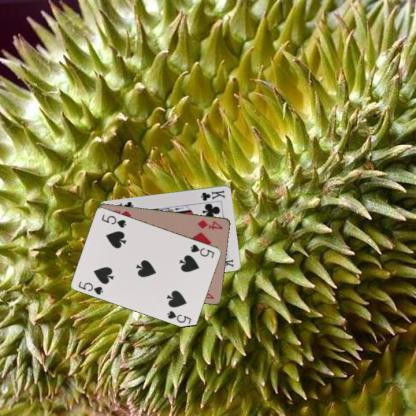4d: (195, 217, 224, 231)
5s: (188, 241, 216, 259), (76, 278, 104, 296)
Kc: (198, 187, 226, 202)
